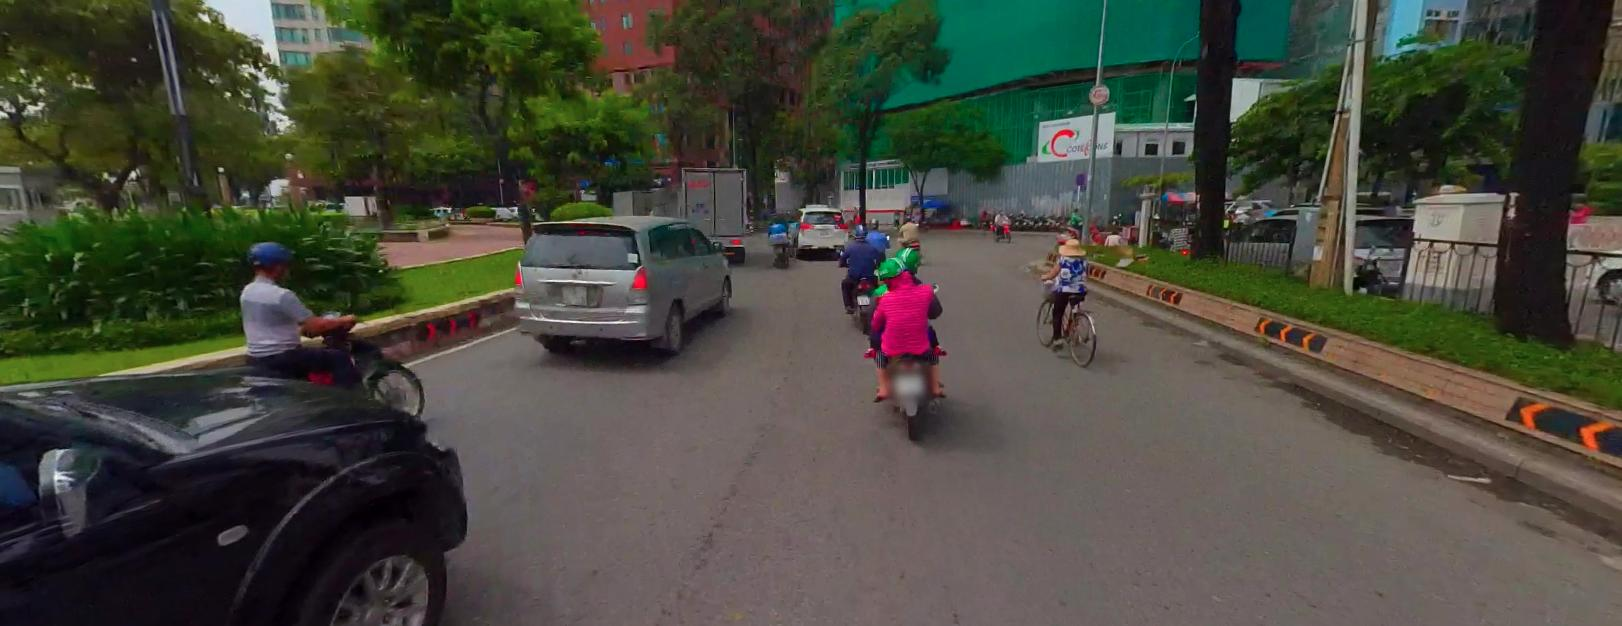Cam dung va do: (1075, 172, 1084, 183)
